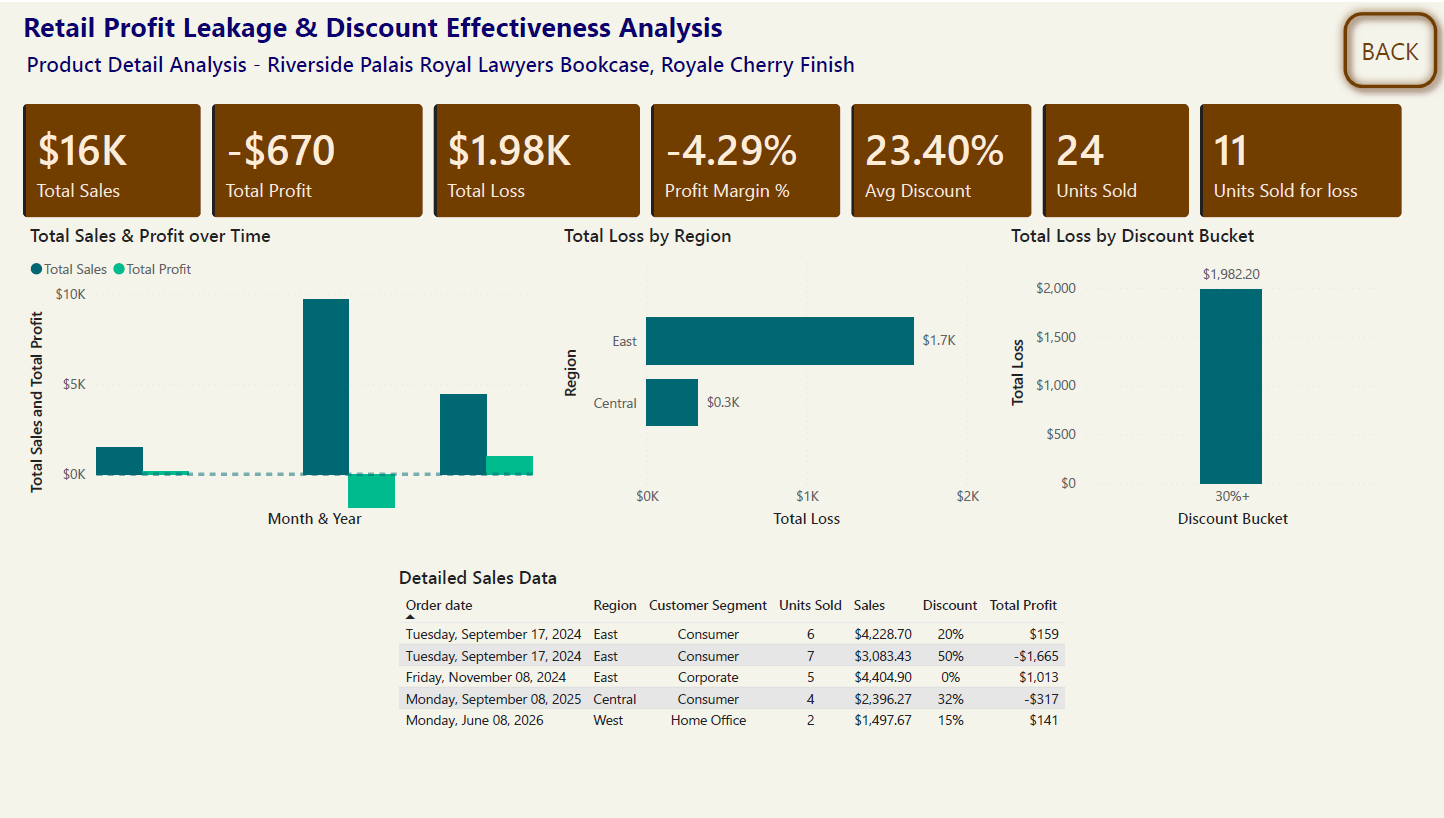

The dashboard page shown, as its layout file describes it:
{"tool":"powerbi","page":{"name":"Product Detail Analysis","canvas":[1280,720],"ordinal":5},"visuals":[{"type":"actionButton","box":[1180,0,100,85],"z":0},{"type":"cardVisual","fields":{"Data":["_Measures.Total Profit"]},"box":[183.8,84.6,196.5,109.9],"z":1000},{"type":"cardVisual","fields":{"Data":["_Measures.Average Discount %"]},"box":[748.9,84.6,169.2,109.9],"z":2000},{"type":"cardVisual","fields":{"Data":["_Measures.Total Sales"]},"box":[16.5,84.6,167.3,109.9],"z":3000},{"type":"cardVisual","fields":{"Data":["_Measures.Total Quantity"]},"box":[918.2,84.6,139.1,109.9],"z":4000},{"type":"cardVisual","fields":{"Data":["_Measures.Profit Margin %"]},"box":[571.9,84.6,177,109.9],"z":5000},{"type":"cardVisual","fields":{"Data":["_Measures.Total Loss"]},"box":[380.3,84.6,191.6,109.9],"z":6000},{"type":"cardVisual","fields":{"Data":["_Measures.Units Sold for loss"]},"box":[1057.3,84.6,187.7,109.9],"z":7000},{"type":"clusteredColumnChart","title":"Total Sales & Profit over Time","fields":{"Category":["dim_date.year","dim_date.month_number"],"Y":["_Measures.Total Sales","_Measures.Total Profit"]},"box":[23.3,194.5,453.3,274.3],"z":8000},{"type":"barChart","fields":{"Category":["dim_geography.region"],"Y":["_Measures.Total Loss"]},"box":[495.1,194.5,375.4,274.3],"z":9000},{"type":"columnChart","fields":{"Category":["fact_sales.Discount Bucket"],"Y":["_Measures.Total Loss"]},"box":[890,194.5,334.6,274.3],"z":10000},{"type":"tableEx","title":"Detailed Sales Data","fields":{"Values":["dim_date.full_date","dim_geography.region","dim_customer.segment","fact_sales.quantity","fact_sales.sales","fact_sales.discount","_Measures.Total Profit"]},"box":[349.2,497,666.3,209.1],"z":11000},{"type":"cardVisual","fields":{"Data":["_Measures.Selected Product Title"]},"box":[8,22,988,63],"z":12000},{"type":"textbox","box":[17,0,643,43],"z":13000}]}

Visuals, with their boxes in screenshot pixels (x1, y1, x2, y2), scaled from the page's 1280x720 canvas onto the 1444x818 screenshot:
actionButton: (x1=1331, y1=0, x2=1443, y2=97)
cardVisual - _Measures.Total Profit: (x1=207, y1=96, x2=429, y2=221)
cardVisual - _Measures.Average Discount %: (x1=845, y1=96, x2=1036, y2=221)
cardVisual - _Measures.Total Sales: (x1=19, y1=96, x2=207, y2=221)
cardVisual - _Measures.Total Quantity: (x1=1036, y1=96, x2=1193, y2=221)
cardVisual - _Measures.Profit Margin %: (x1=645, y1=96, x2=845, y2=221)
cardVisual - _Measures.Total Loss: (x1=429, y1=96, x2=645, y2=221)
cardVisual - _Measures.Units Sold for loss: (x1=1193, y1=96, x2=1405, y2=221)
"Total Sales & Profit over Time" clusteredColumnChart: (x1=26, y1=221, x2=538, y2=533)
barChart - dim_geography.region x _Measures.Total Loss: (x1=559, y1=221, x2=982, y2=533)
columnChart - fact_sales.Discount Bucket x _Measures.Total Loss: (x1=1004, y1=221, x2=1382, y2=533)
"Detailed Sales Data" tableEx: (x1=394, y1=565, x2=1146, y2=802)
cardVisual - _Measures.Selected Product Title: (x1=9, y1=25, x2=1124, y2=97)
textbox: (x1=19, y1=0, x2=745, y2=49)
